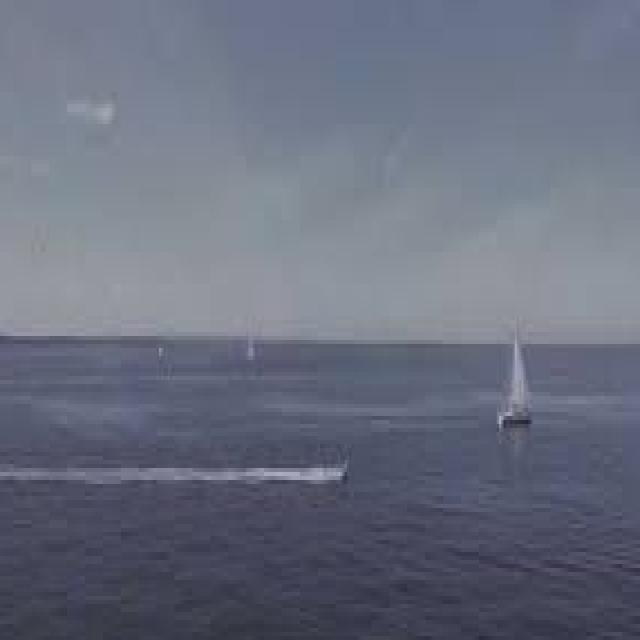sailboat: (498, 330, 542, 440)
